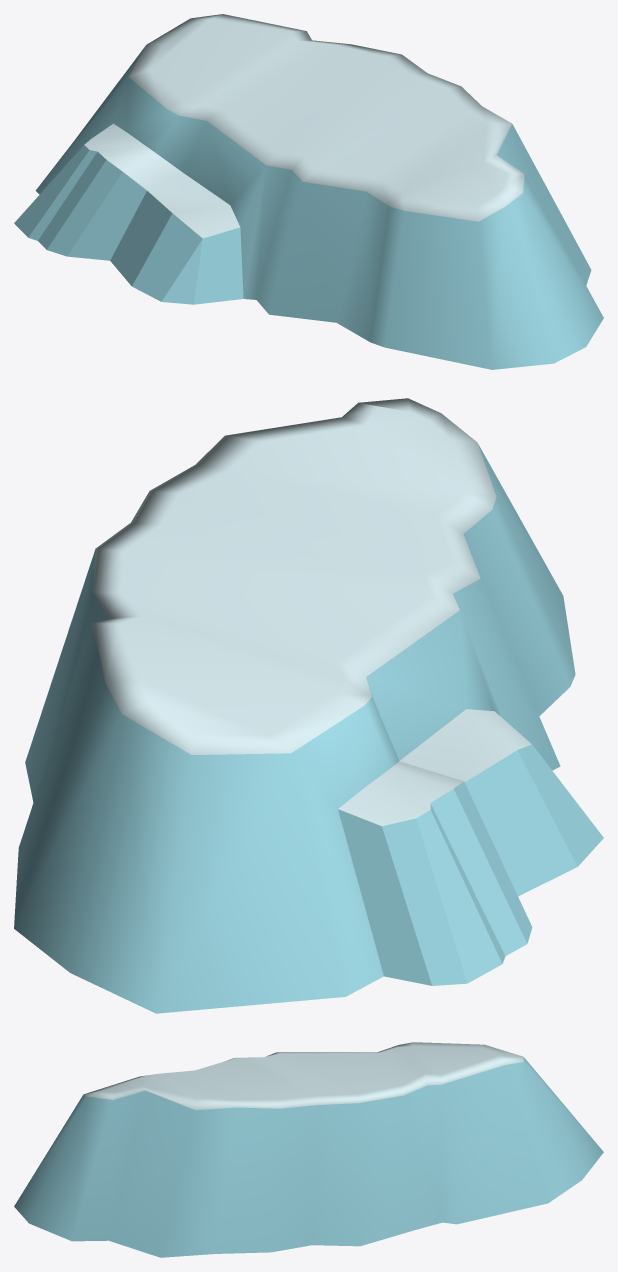
The model's file is mdl_iceCliff01.fbx.
The picture shows the model from 3 angles, top to bottom: view 1: azimuth 30°, elevation 25°; view 2: azimuth 150°, elevation 25°; view 3: azimuth 270°, elevation 25°; orthographic projection. The views are drawn at different scales.
Parts seen in each view (by area): view 1: mdl_iceCliff07; view 2: mdl_iceCliff07; view 3: mdl_iceCliff07.
Boxes of the visible parts, x1,y1,x2,y2 form: mdl_iceCliff07: (14, 14, 603, 369); mdl_iceCliff07: (14, 398, 603, 1013); mdl_iceCliff07: (14, 1042, 603, 1257).
Size of the model in its own units: 304 by 112 by 471.
1 material, 1 textured.
